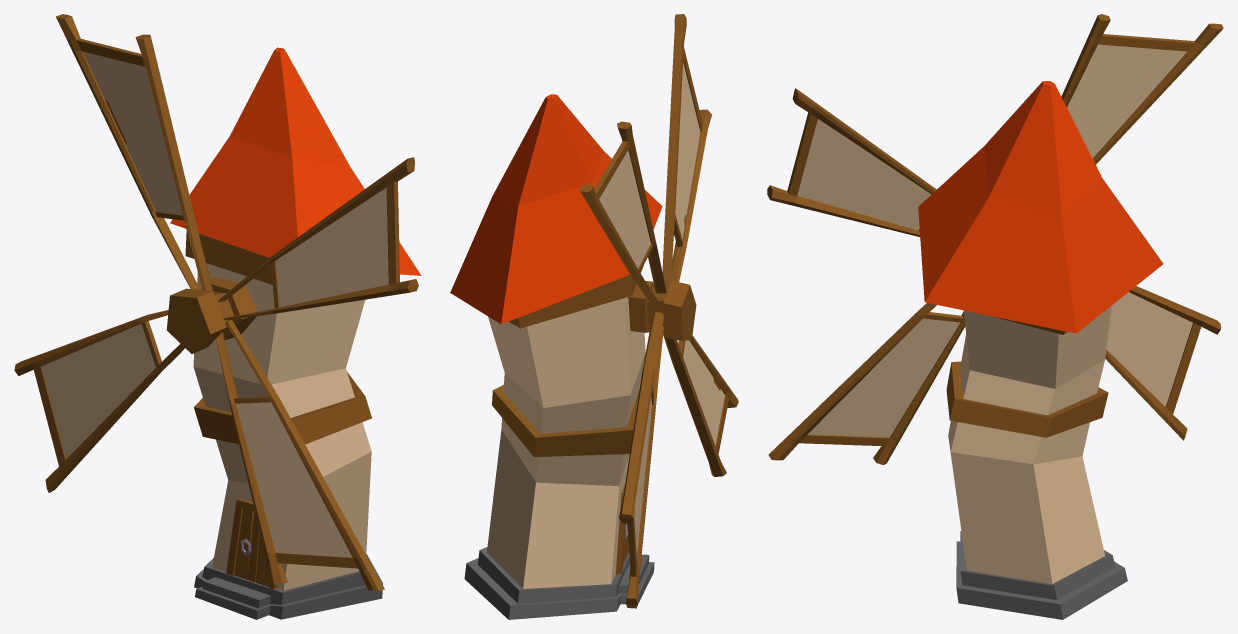
File: muehle.fbx
3 renders of one model, left to right at view 1: azimuth 30°, elevation 25°; view 2: azimuth 150°, elevation 25°; view 3: azimuth 270°, elevation 25°, orthographic. The views are drawn at different scales.
Parts seen in each view (by area): view 1: Torus, Cube.001, Cube.003; view 2: Torus, Cube.001, Cube.003; view 3: Torus, Cube.001.
Part boxes in pixels (x1,y1,x2,y2): Torus: (170, 47, 421, 619); Cube.001: (14, 14, 418, 590); Cube.003: (166, 277, 257, 353); Torus: (450, 94, 662, 619); Cube.001: (580, 14, 738, 608); Cube.003: (628, 280, 696, 341); Torus: (918, 81, 1163, 619); Cube.001: (767, 14, 1223, 464).
Size of the model in its own units: 549 by 1064 by 855.
